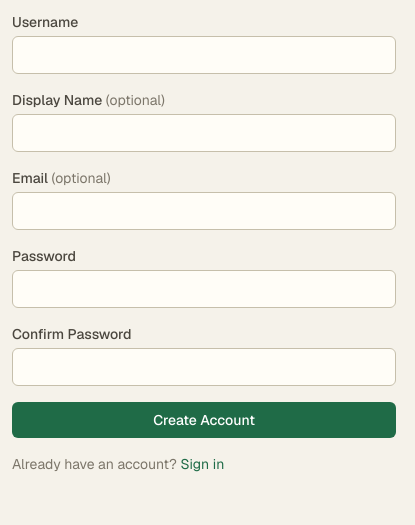
Test: RegisterForm › should show error when passwords do not match
Type "newuser" into the field labelled "Username". click: (204, 55)
box: [12, 36, 396, 74]
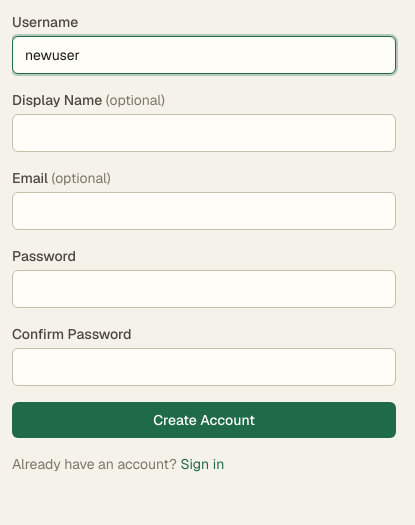
Type "password123" into the password field labelled "Password". click: (204, 289)
box: [12, 270, 396, 308]
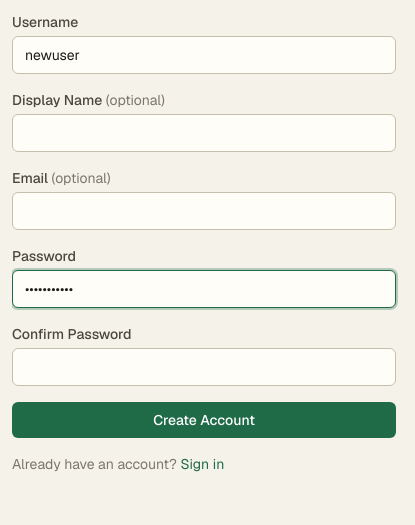
Type "different" into the password field labelled "Confirm Password". click: (204, 367)
box: [12, 348, 396, 386]
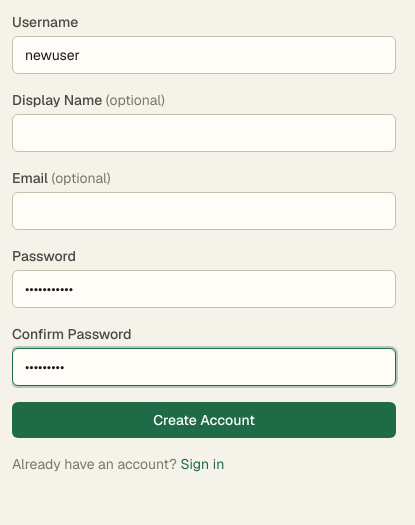
Click the button "Create Account". click: (204, 420)
box: [12, 402, 396, 438]
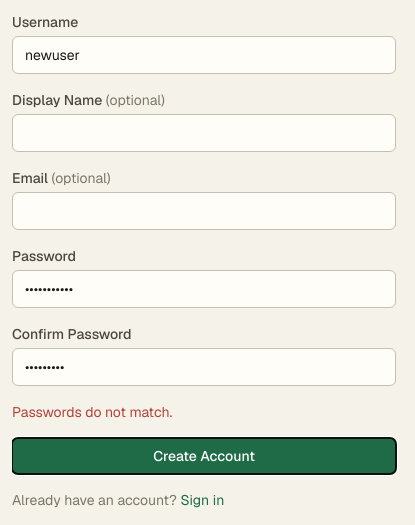
Now the text "Passwords do not match." is shown, box [12, 403, 172, 421]
